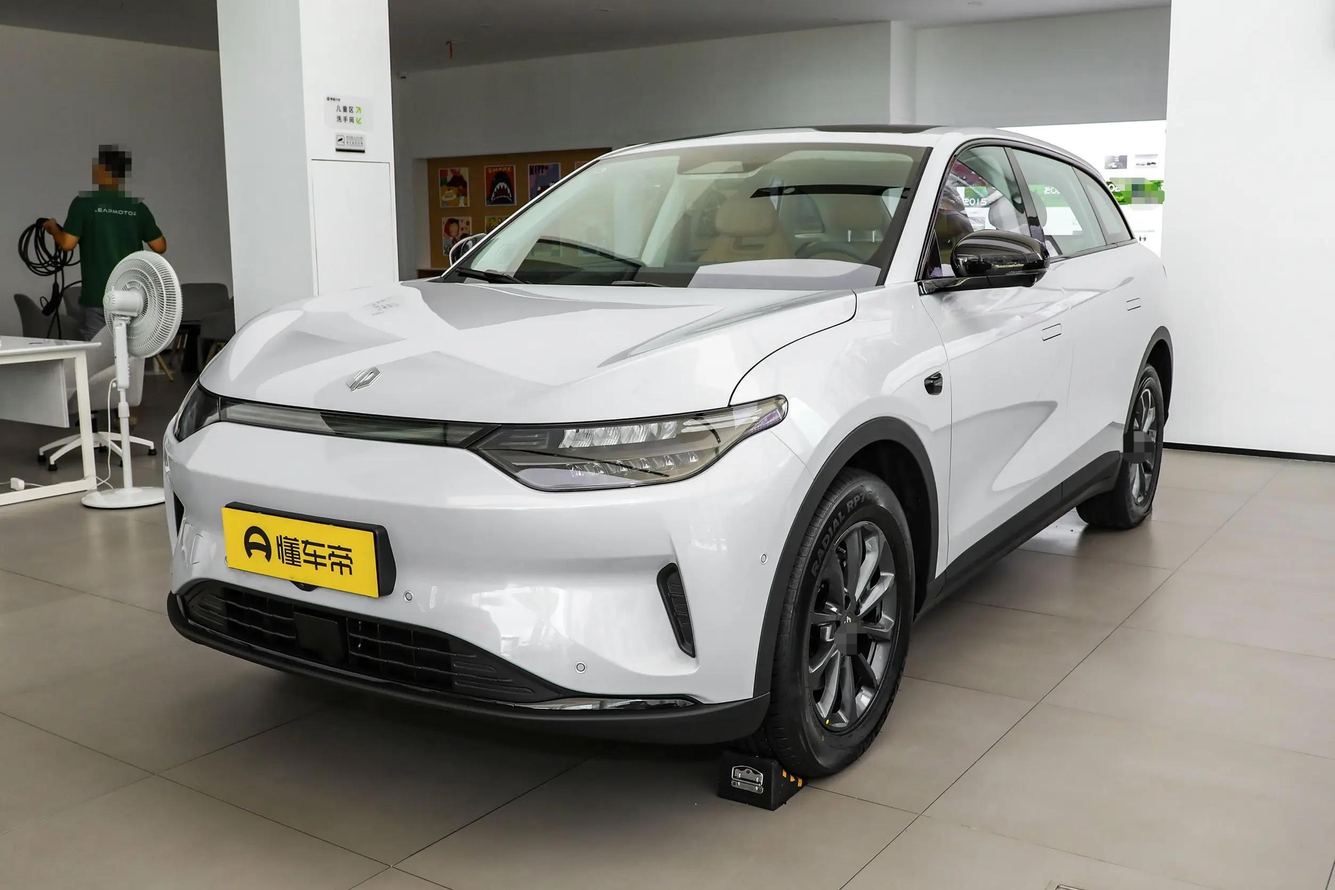LEAPMOTOR: (344, 364, 382, 391)
